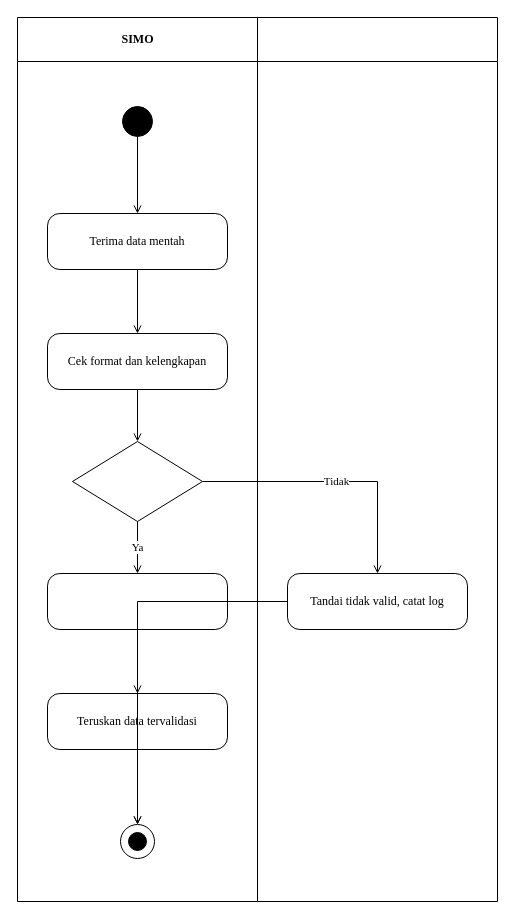
Some shapes in this 515 by 919 pixel diagram are drawn without their labels. Here are the shapes that lost their labels. From the top down, the box of each, then its label:
(256, 16, 498, 902): Basis Data
(72, 440, 202, 522): Data valid?
(46, 572, 228, 630): Transformasi dan normalisasi
